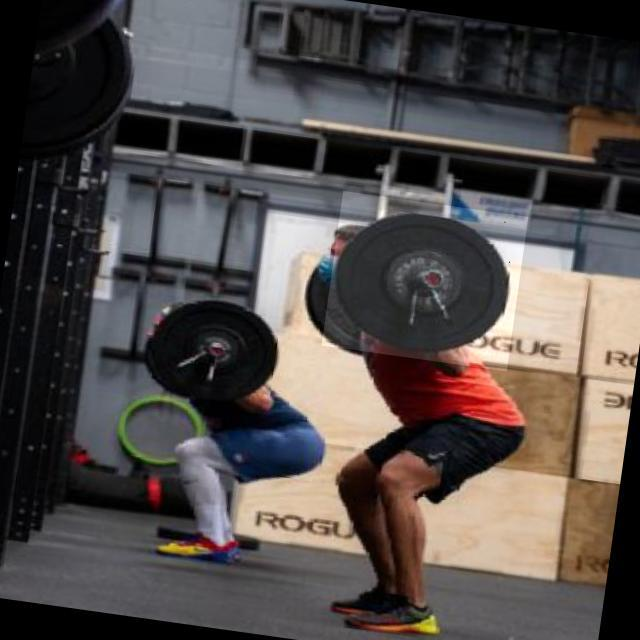barbell: (323, 192, 530, 372)
